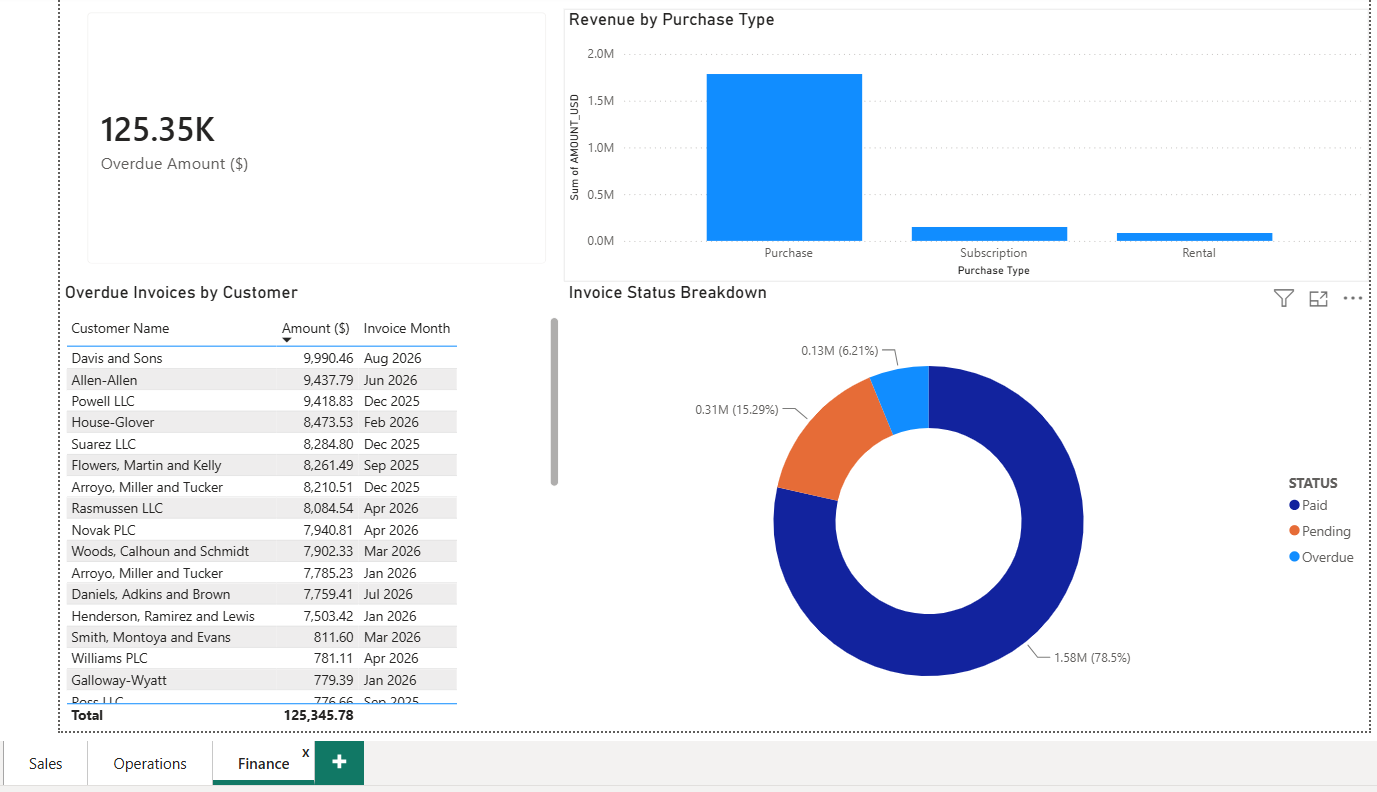

The page's visual inventory and layout, read from the dashboard file:
{"tool":"powerbi","page":{"name":"Finance","canvas":[1280,720],"ordinal":2},"visuals":[{"type":"cardVisual","title":"Overdue Amount ($)","fields":{"Data":["Sum(FCT_REVENUE.AMOUNT_USD)"]},"box":[9.5,0,483.7,280.4],"z":0},{"type":"donutChart","title":"Invoice Status Breakdown","fields":{"Category":["FCT_REVENUE.STATUS"],"Y":["Sum(FCT_REVENUE.AMOUNT_USD)"]},"box":[493.1,280.4,787.1,439],"z":1},{"type":"clusteredColumnChart","title":"Revenue by Purchase Type","fields":{"Category":["FCT_REVENUE.PURCHASE_TYPE"],"Y":["Sum(FCT_REVENUE.AMOUNT_USD)"]},"box":[493.1,13.5,787.1,266.9],"z":2},{"type":"tableEx","title":"Overdue Invoices by Customer","fields":{"Values":["FCT_REVENUE.CUSTOMER_NAME","Sum(FCT_REVENUE.AMOUNT_USD)","FCT_REVENUE.INVOICE_MONTH_LABEL"]},"box":[0,280.4,493.1,439],"z":3}]}

Visuals, with their boxes on the page's 1280x720 design canvas (x1, y1, x2, y2). These are canvas units, not pixel positions in the 1377x792 screenshot, which may show the page scaled, cropped or inside an application window:
"Overdue Amount ($)" cardVisual: [10, 0, 493, 280]
"Invoice Status Breakdown" donutChart: [493, 280, 1280, 719]
"Revenue by Purchase Type" clusteredColumnChart: [493, 14, 1280, 280]
"Overdue Invoices by Customer" tableEx: [0, 280, 493, 719]
